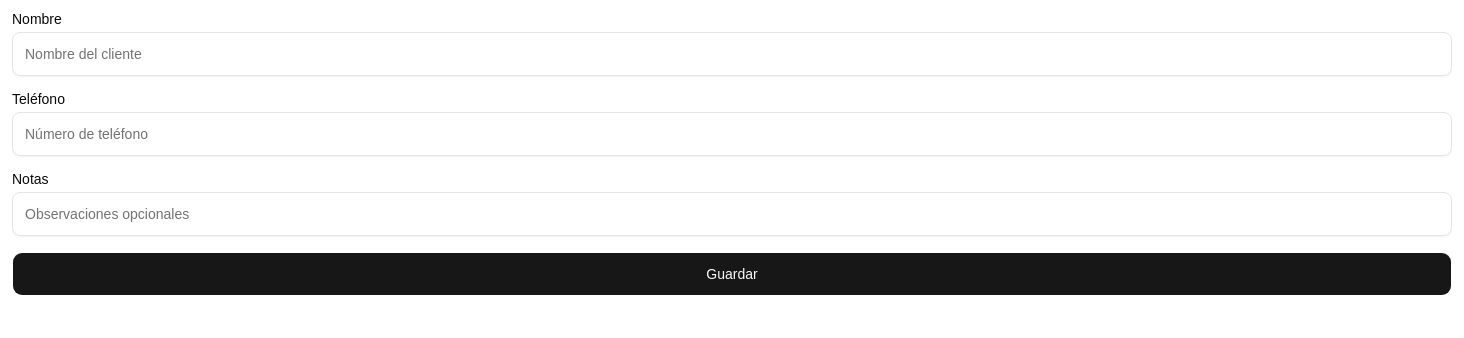
FormCliente › validación › telefono es obligatorio — muestra error si vacío al submit
The width and height of the screenshot is (1464, 338).
Type "Juan Pérez" into the field labelled "Nombre" at (732,54), box [12,32,1452,76]
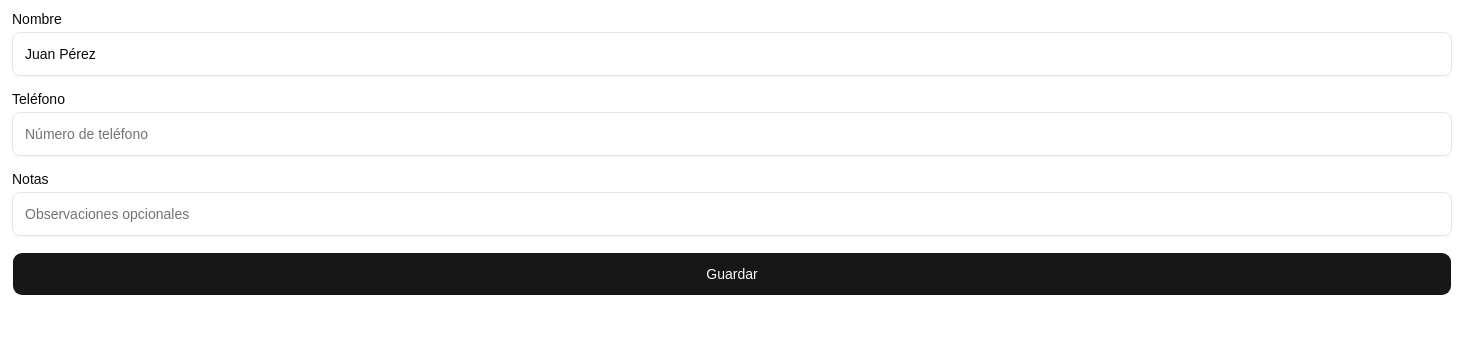
Click the button "Guardar" at (732,274), box [12,252,1452,296]
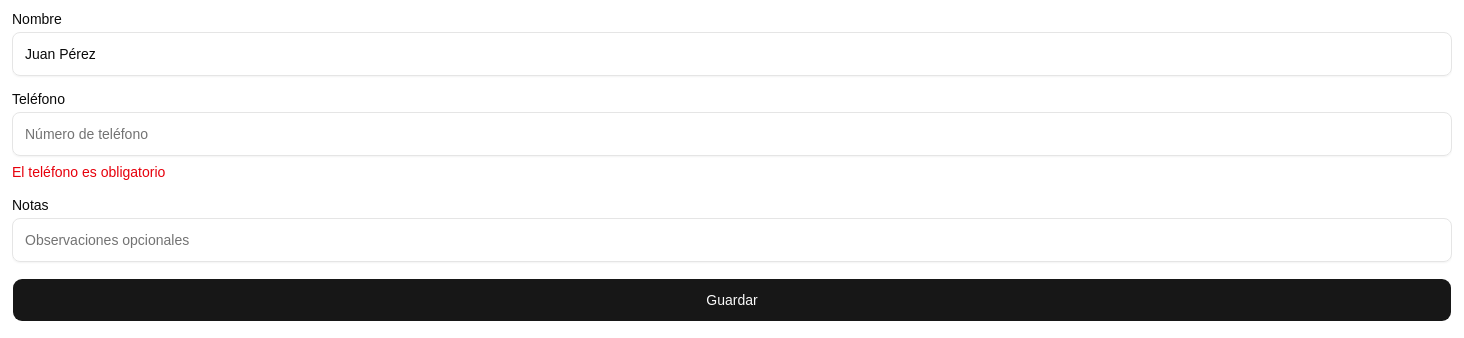
Check: the text "El teléfono es obligatorio" is shown, box [12,164,165,180]
